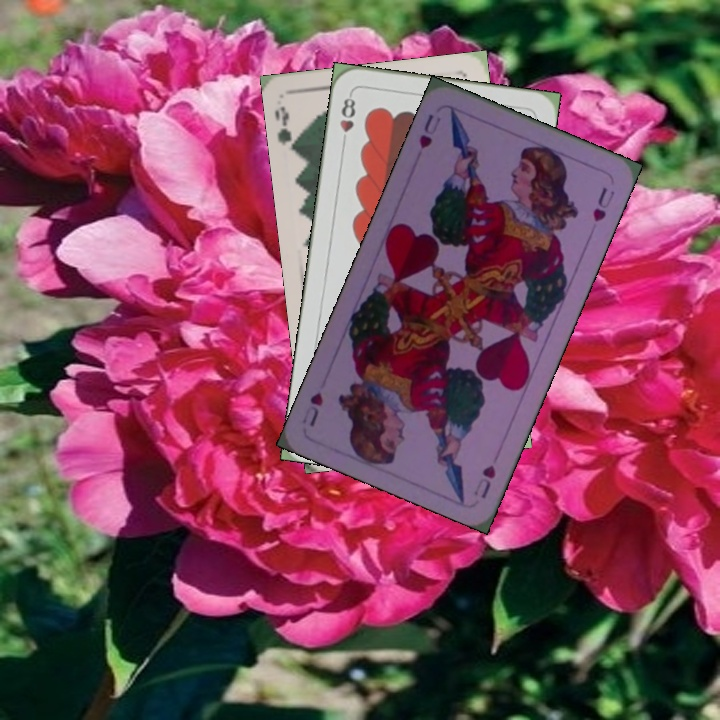G9: (270, 102, 302, 156)
H8: (336, 90, 358, 149)
HU: (414, 110, 444, 152), (469, 460, 499, 501)
